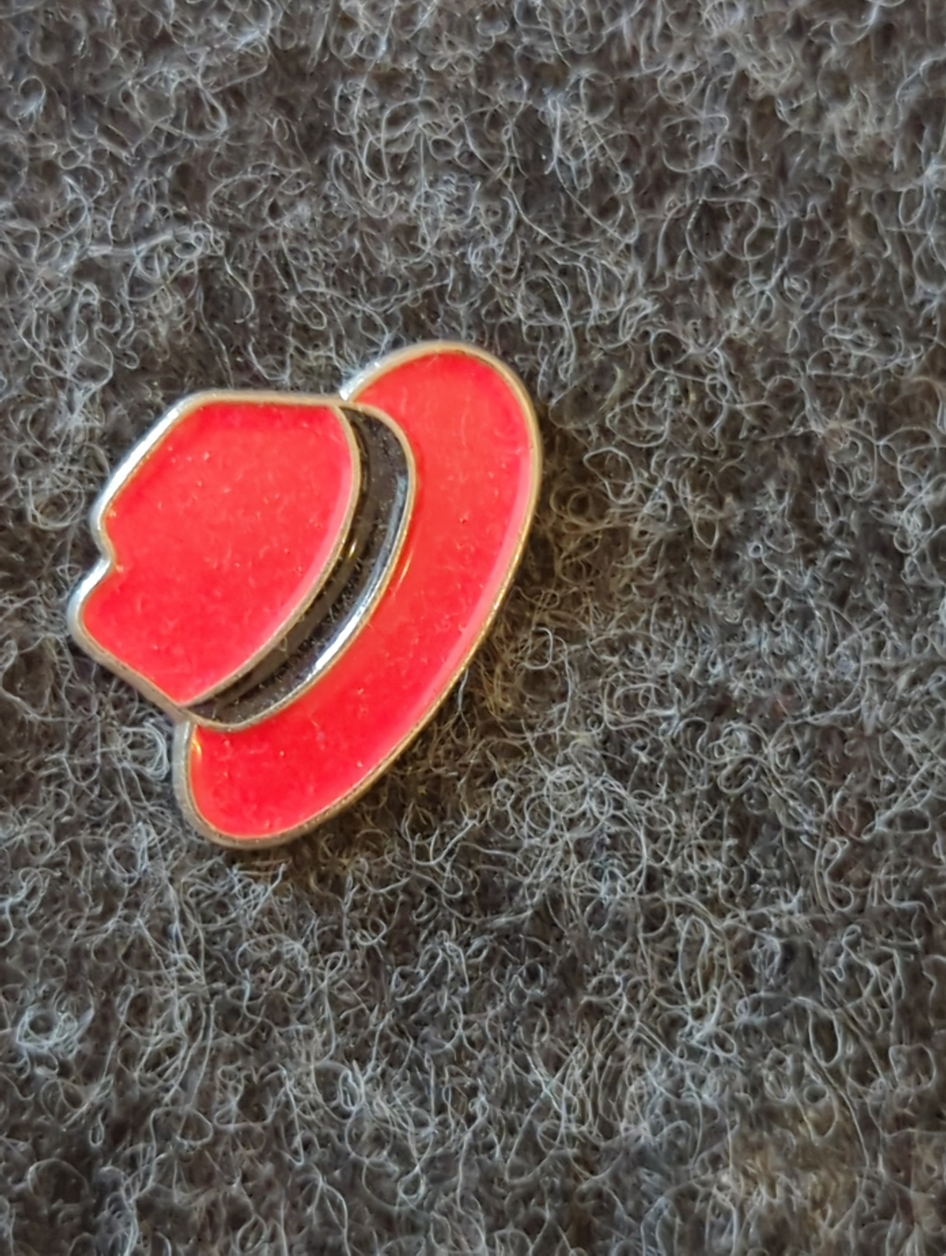Red-Hat: (24, 303, 620, 912)
